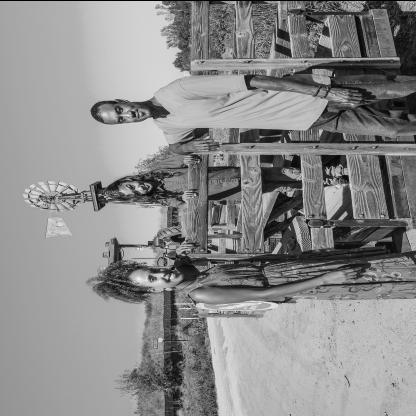Eye: (119, 116, 127, 122), (149, 275, 156, 281), (117, 107, 125, 112), (128, 183, 134, 187), (134, 190, 140, 194), (152, 268, 158, 272)
Mouth: (167, 270, 177, 280), (136, 109, 142, 117), (144, 183, 149, 189)
Nose: (121, 110, 134, 118), (154, 271, 166, 277), (135, 185, 144, 190)
